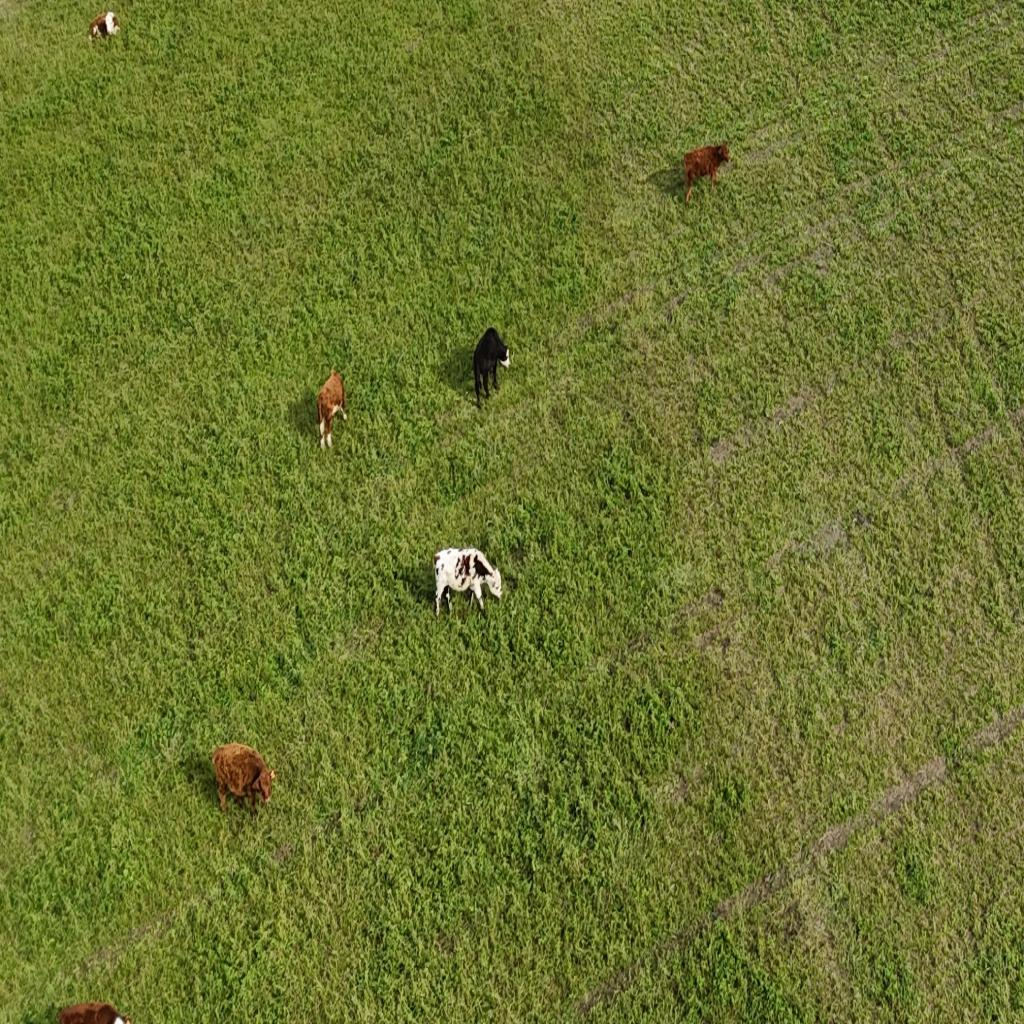cow: (432, 539, 508, 624), (210, 739, 280, 820), (472, 325, 512, 407), (679, 140, 730, 204), (316, 365, 350, 454), (58, 1000, 129, 1024), (86, 8, 124, 48)
